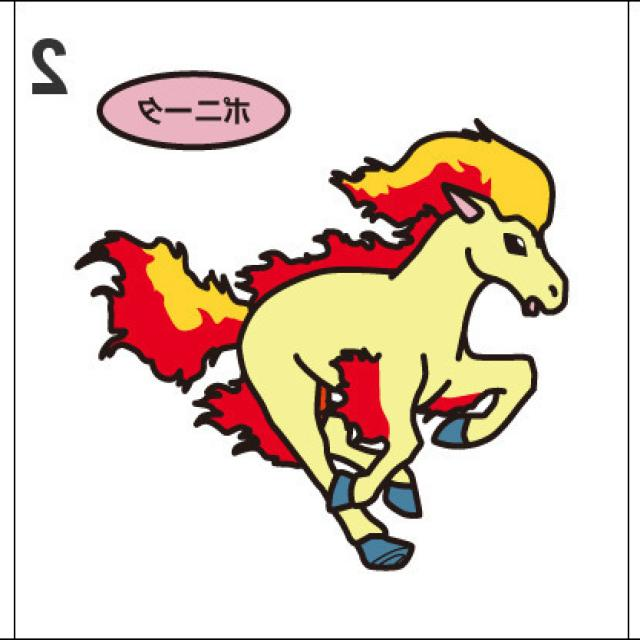Ponyta: (185, 134, 580, 576)
